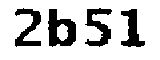1: (120, 6, 150, 52)
2: (12, 5, 44, 49)
5: (84, 4, 115, 50)
b: (49, 4, 78, 49)
